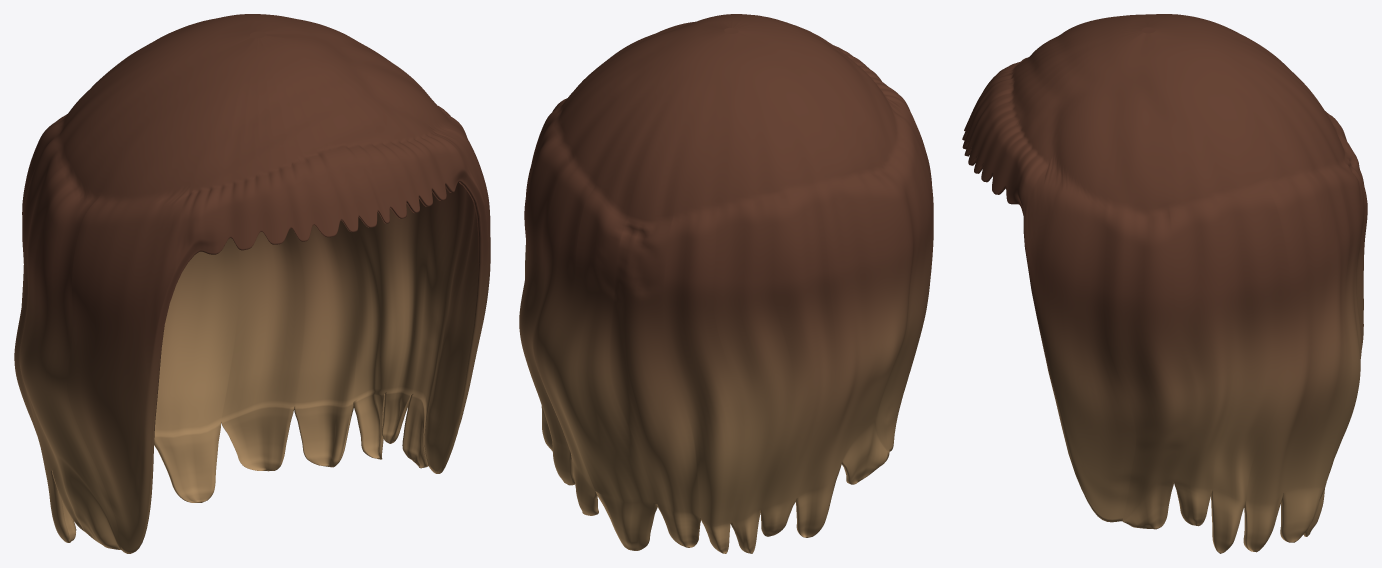
File: long-headband-ombre.glb
3 views of the same model, side by side, from view 1: azimuth 30°, elevation 25°; view 2: azimuth 150°, elevation 25°; view 3: azimuth 270°, elevation 25° (orthographic). The views are drawn at different scales.
Parts seen in each view (by area): view 1: Hair / rounded long fringe; view 2: Hair / rounded long fringe; view 3: Hair / rounded long fringe.
Boxes of the visible parts, left/top/right/bottom form: Hair / rounded long fringe: left=14, top=14, right=490, bottom=553; Hair / rounded long fringe: left=519, top=14, right=933, bottom=553; Hair / rounded long fringe: left=962, top=14, right=1367, bottom=553.
Bounding box in the file's own units: 0.8534 × 1.04 × 0.7794.
